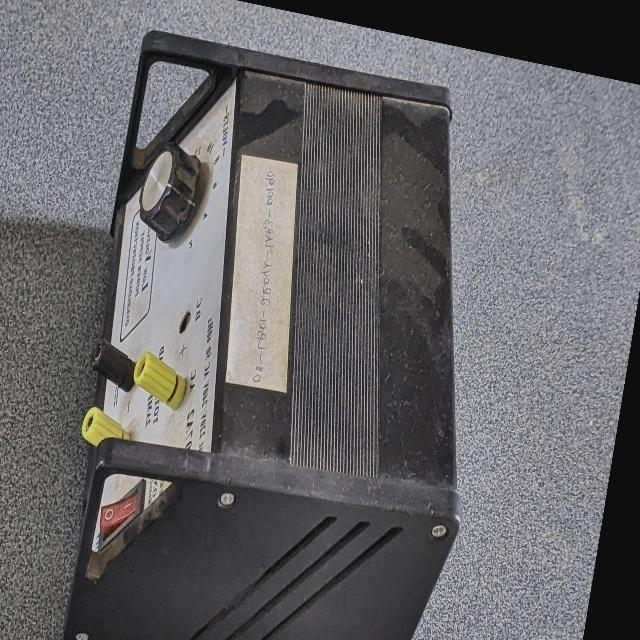AC-AD Regulated Power Supply: (36, 4, 536, 640)
